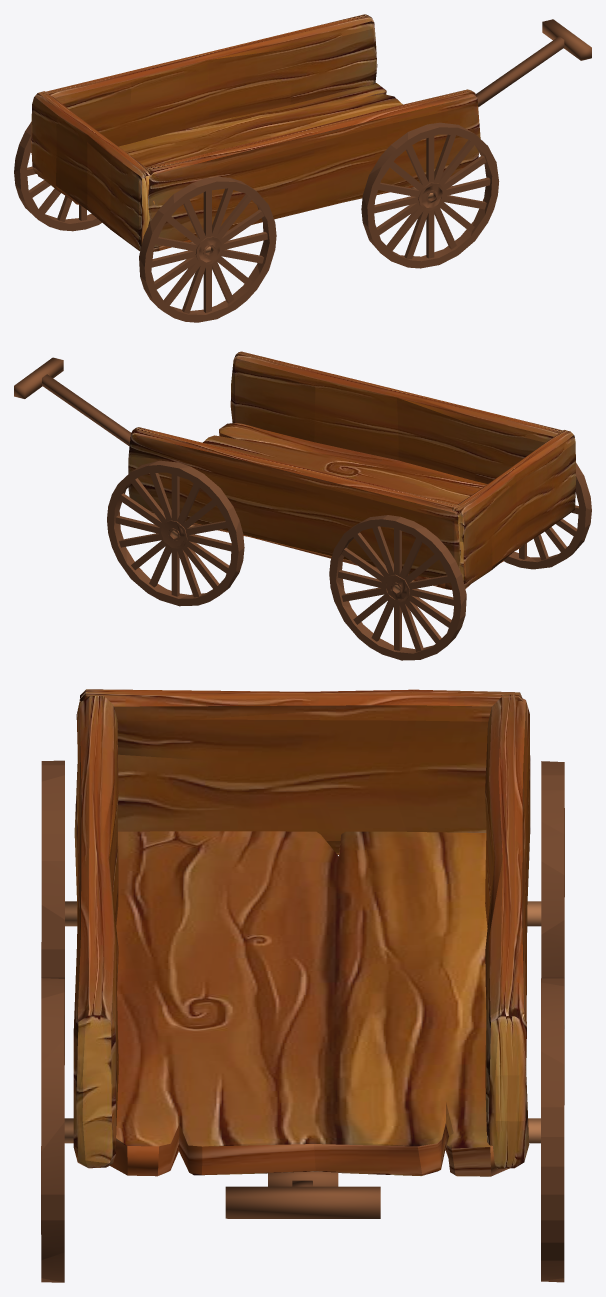
Rendered from wagon.glb.
The picture shows the model from 3 angles, top to bottom: view 1: azimuth 30°, elevation 25°; view 2: azimuth 150°, elevation 25°; view 3: azimuth 270°, elevation 25°; orthographic projection. The views are drawn at different scales.
Visible parts, largest first — view 1: wagon; view 2: wagon; view 3: wagon.
Boxes of the visible parts, left/top/right/bottom form: wagon: left=14, top=14, right=591, bottom=322; wagon: left=14, top=351, right=591, bottom=660; wagon: left=41, top=689, right=564, bottom=1282.
Bounding box in the file's own units: 3.65 × 1.09 × 1.68.
5 materials, 2 textured.
